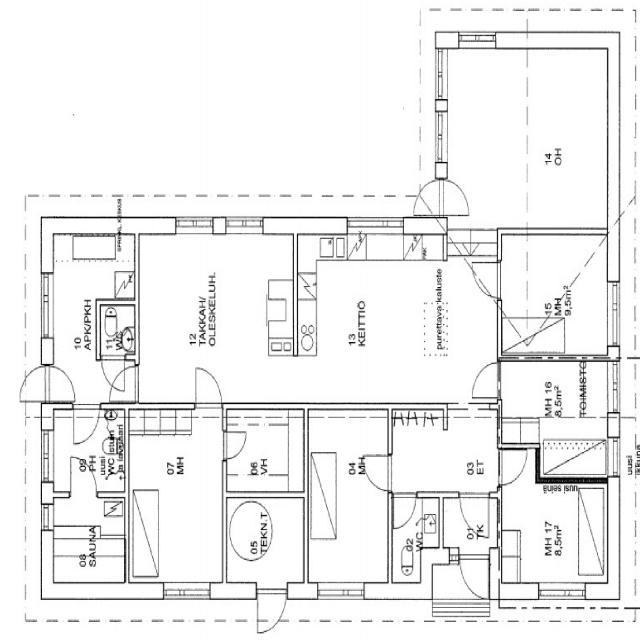door: (258, 581, 286, 637), (460, 548, 488, 603), (408, 180, 447, 216), (435, 180, 473, 216), (41, 366, 79, 402), (16, 366, 54, 402), (460, 492, 489, 538), (74, 403, 100, 445), (109, 366, 139, 402), (471, 262, 501, 297), (71, 456, 96, 497), (196, 368, 221, 409), (362, 456, 392, 490), (472, 363, 501, 398), (497, 451, 525, 485), (102, 354, 124, 391), (394, 491, 415, 527), (222, 432, 246, 459)
